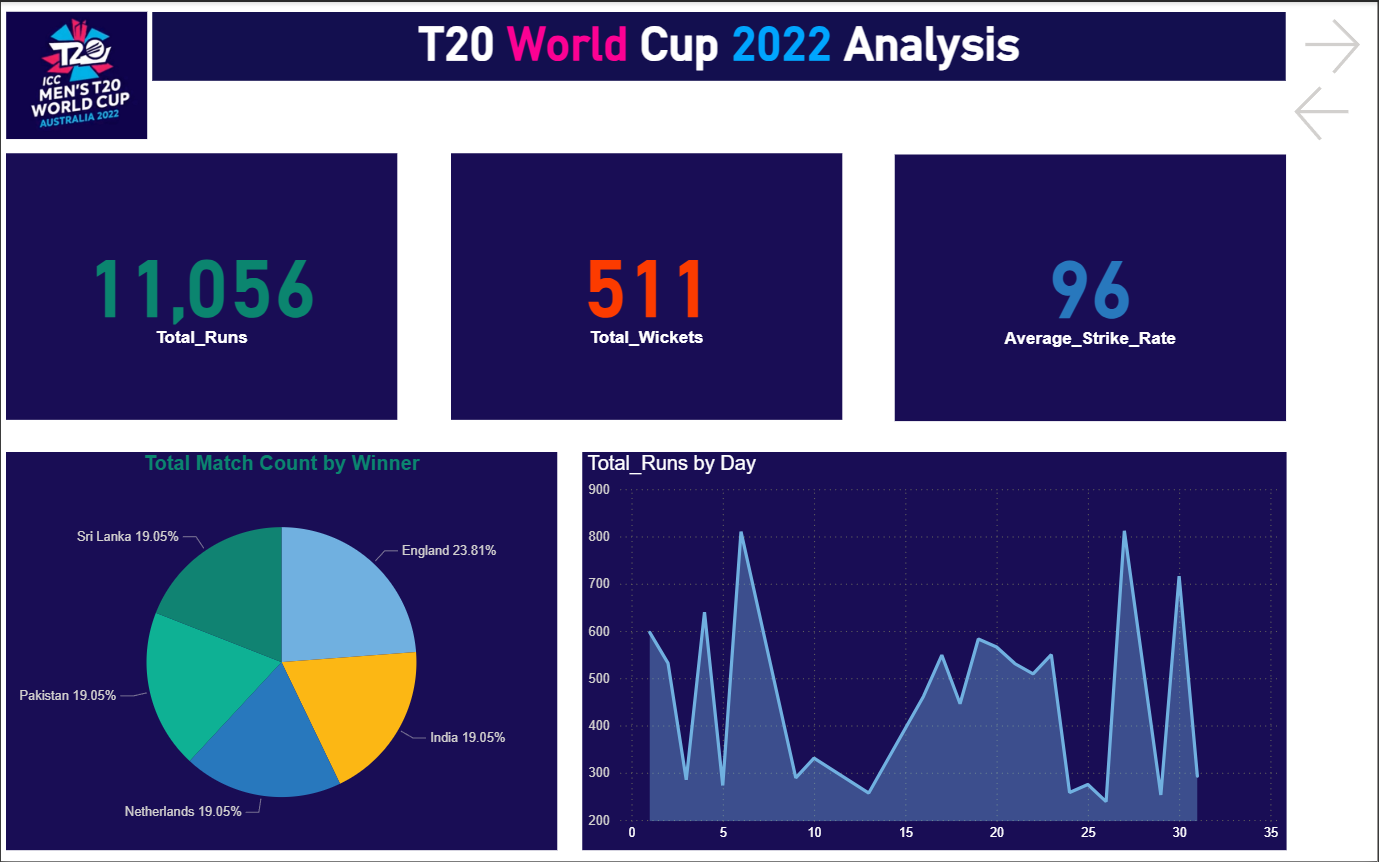

The page's visual inventory and layout, read from the dashboard file:
{"tool":"powerbi","page":{"name":"Overview","canvas":[1280,800],"ordinal":1},"visuals":[{"type":"textbox","box":[140.7,9.3,1054.7,64],"z":0},{"type":"image","box":[0,3.6,140.8,129],"z":1000},{"type":"actionButton","box":[1205.8,9.3,74.4,64],"z":2000},{"type":"card","title":"Total Runs In 2022","fields":{"Values":["Measures Table.Total_Runs"]},"box":[5,141.1,364.2,248.3],"z":3000},{"type":"card","title":"Total Runs In 2022","fields":{"Values":["Measures Table.Total_Wickets"]},"box":[418.4,141.1,364.2,248.3],"z":4000},{"type":"card","title":"Total Runs In 2022","fields":{"Values":["Measures Table.Average_Strike_Rate"]},"box":[831.8,142.4,364.2,248.3],"z":5000},{"type":"pieChart","title":"Total Match Count by Winner","fields":{"Category":["match_results.winner"],"Y":["Measures Table.Total_Match_Count"]},"box":[5,418.4,512.9,370.5],"z":6000},{"type":"areaChart","fields":{"Category":["match_results.matchDate.Variation.Date Hierarchy.Day"],"Y":["Measures Table.Total_Runs"]},"box":[540.6,418.4,655.3,370.5],"z":7000},{"type":"actionButton","box":[1197.3,71.7,78.6,63.2],"z":8000}]}

Visuals, with their boxes in screenshot pixels (x1, y1, x2, y2), scaled from the page's 1280x800 canvas onto the 1379x862 screenshot:
textbox: box=[152, 10, 1288, 79]
image: box=[0, 4, 152, 143]
actionButton: box=[1299, 10, 1378, 79]
"Total Runs In 2022" card: box=[5, 152, 398, 420]
"Total Runs In 2022" card: box=[451, 152, 843, 420]
"Total Runs In 2022" card: box=[896, 153, 1289, 421]
"Total Match Count by Winner" pieChart: box=[5, 451, 558, 850]
areaChart - match_results.matchDate.Variation.Date Hierarchy.Day x Measures Table.Total_Runs: box=[582, 451, 1288, 850]
actionButton: box=[1290, 77, 1375, 145]
